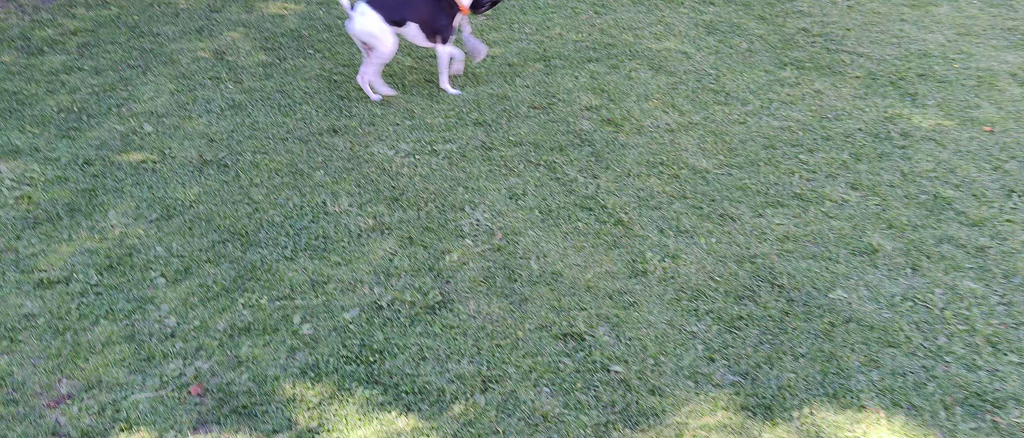Dog: (328, 0, 522, 108)
